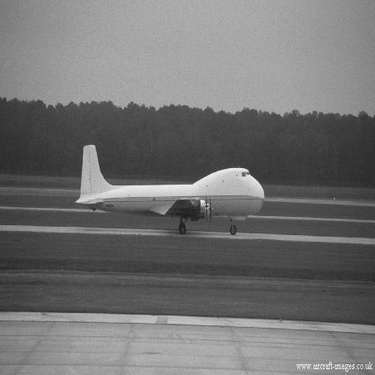airplane: (60, 137, 274, 243)
